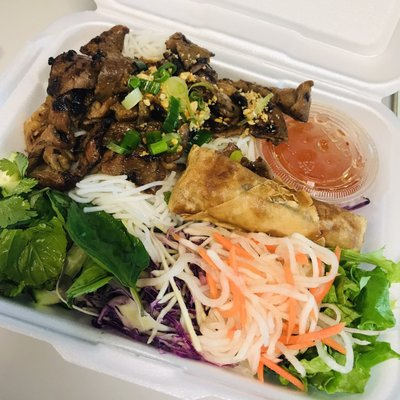sandwich: (2, 10, 399, 392)
